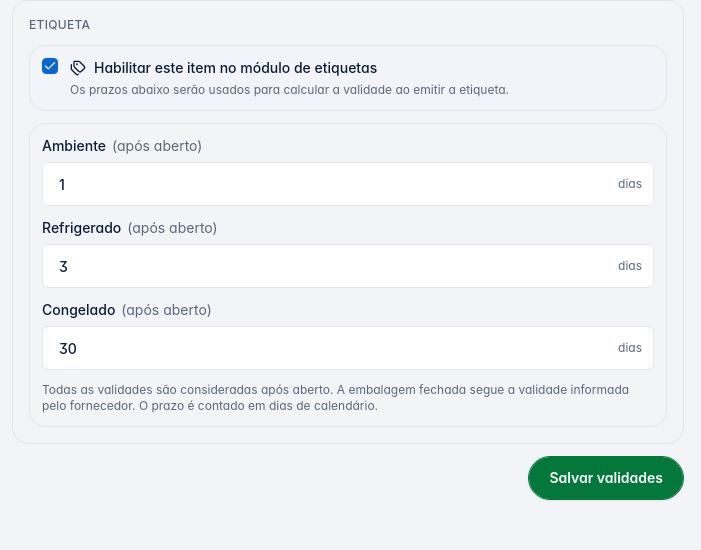
Test: permite editar apenas validades de INSUMO com o perfil funcional, sem edição de insumos
Replace the text in the field labelled "Refrigerado (após aberto)" with "5" at [348, 266], box x1=42 y1=244 x2=654 y2=288
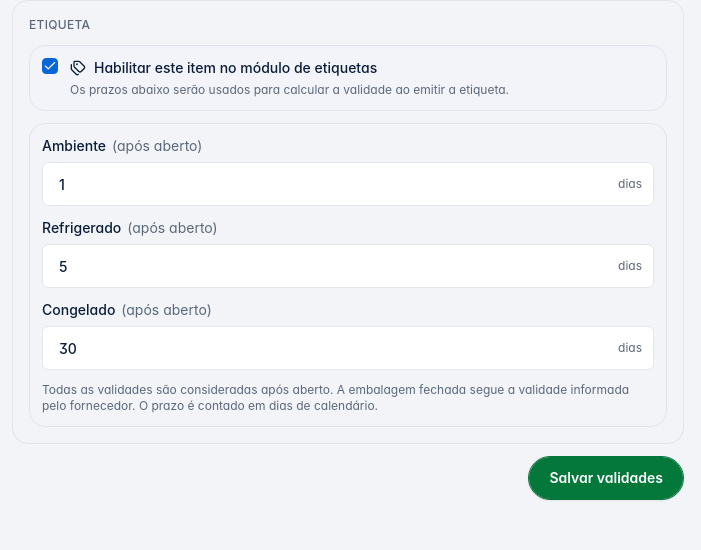
Click the button "Salvar validades" at [606, 478], box x1=528 y1=456 x2=684 y2=500
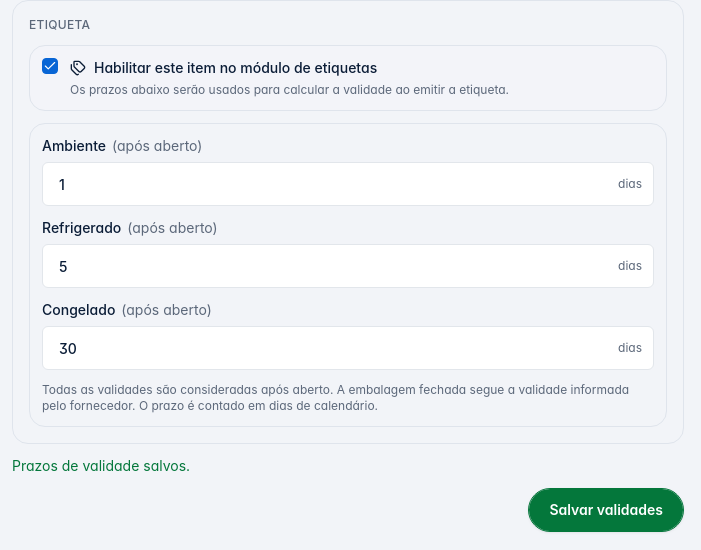
Result: the message "Prazos de validade salvos." is shown at x1=12 y1=457 x2=190 y2=474
